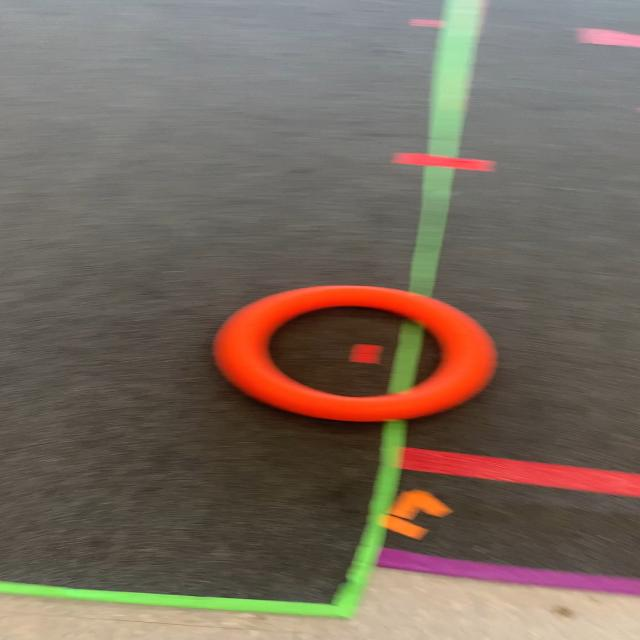notes: (214, 284, 499, 424)
